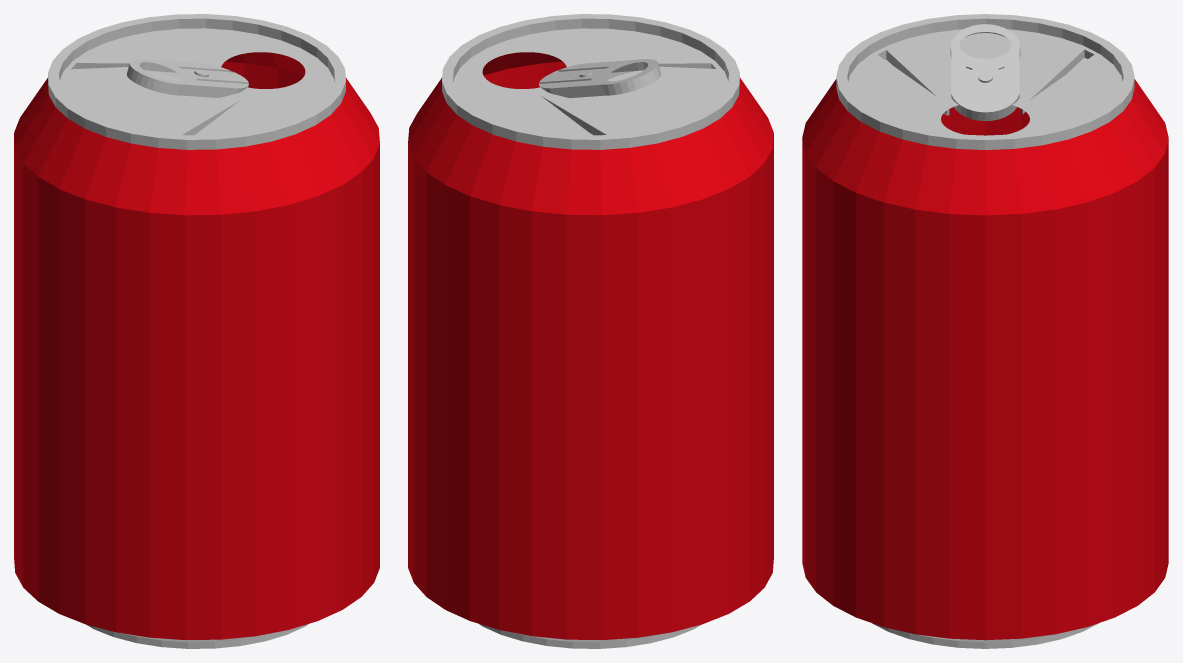
Rendered from coke.glb.
The picture shows the model from 3 angles, left to right: view 1: azimuth 30°, elevation 25°; view 2: azimuth 150°, elevation 25°; view 3: azimuth 270°, elevation 25°; orthographic projection.
Parts seen in each view (by area): view 1: Cylinder, Cylinder.001; view 2: Cylinder, Cylinder.001; view 3: Cylinder, Cylinder.001.
Boxes of the visible parts, box(x1,y1,x2,y2) form: Cylinder: box(14, 14, 379, 648); Cylinder.001: box(126, 59, 248, 97); Cylinder: box(408, 14, 773, 648); Cylinder.001: box(539, 59, 661, 97); Cylinder: box(802, 14, 1168, 648); Cylinder.001: box(950, 24, 1020, 121).
Size of the model in its own units: 2.09 by 3.38 by 2.09.
